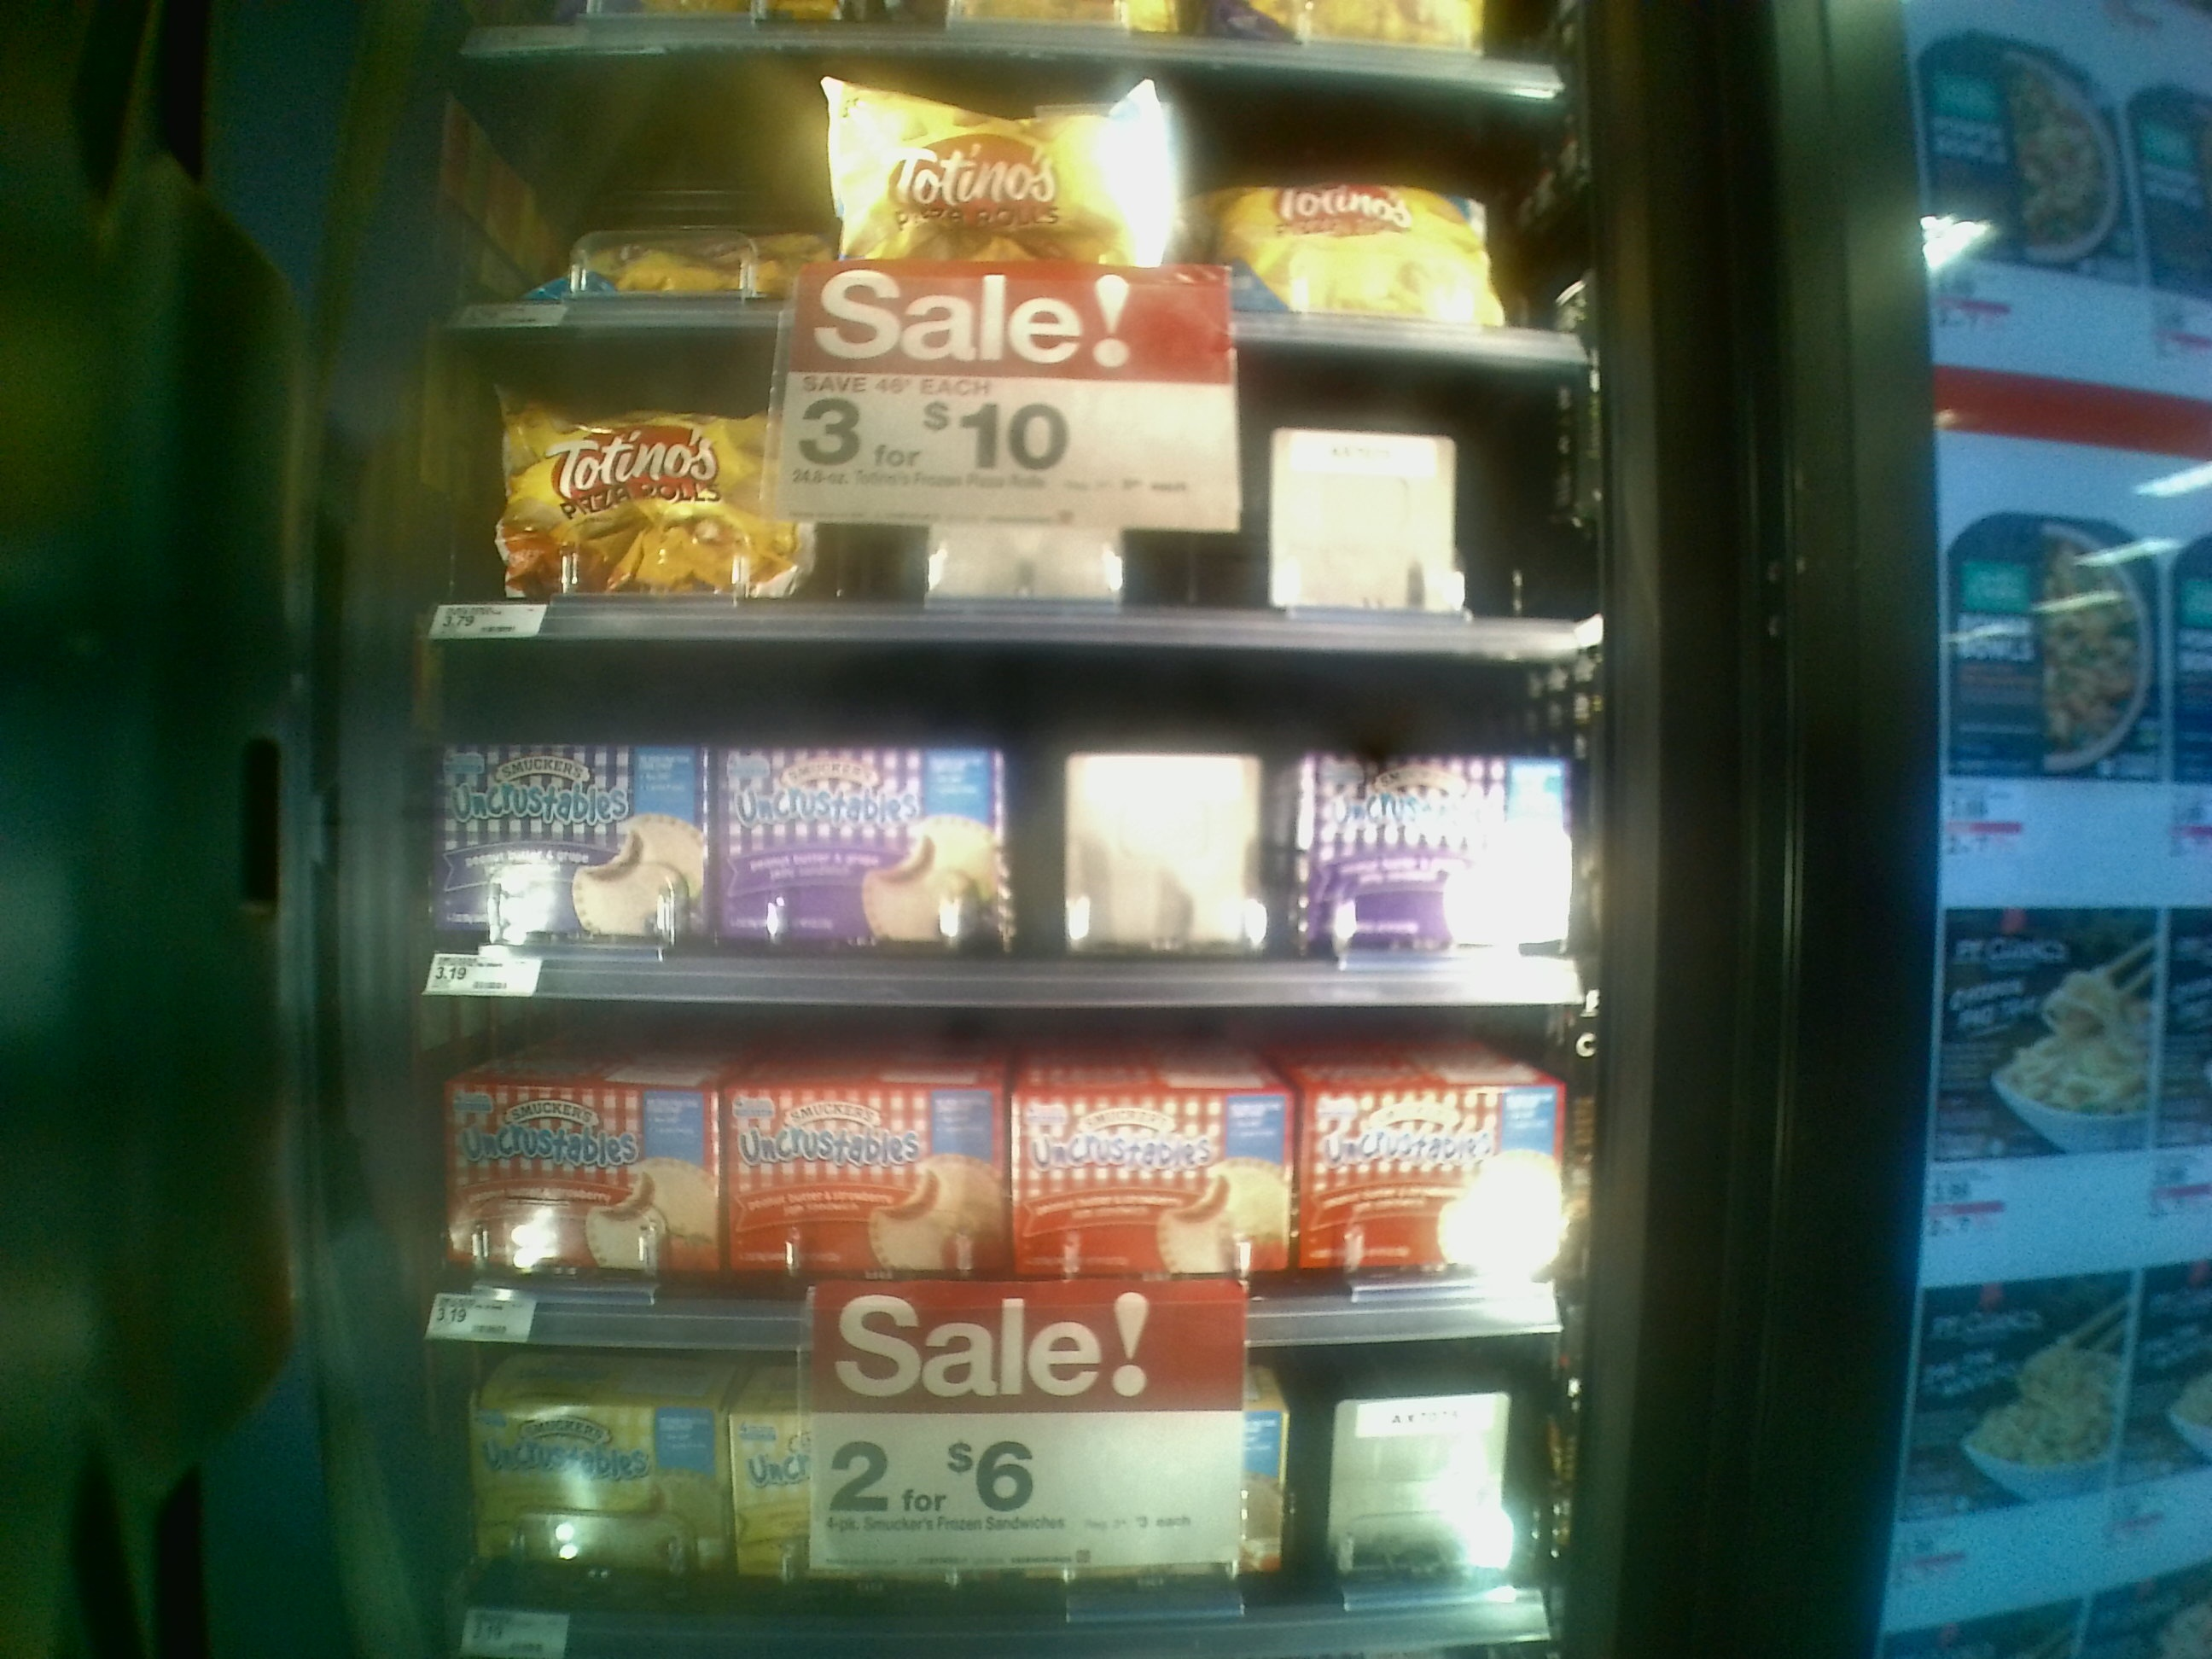shelf: (399, 633, 1599, 1032), (388, 999, 1587, 1366), (394, 314, 1613, 662)
